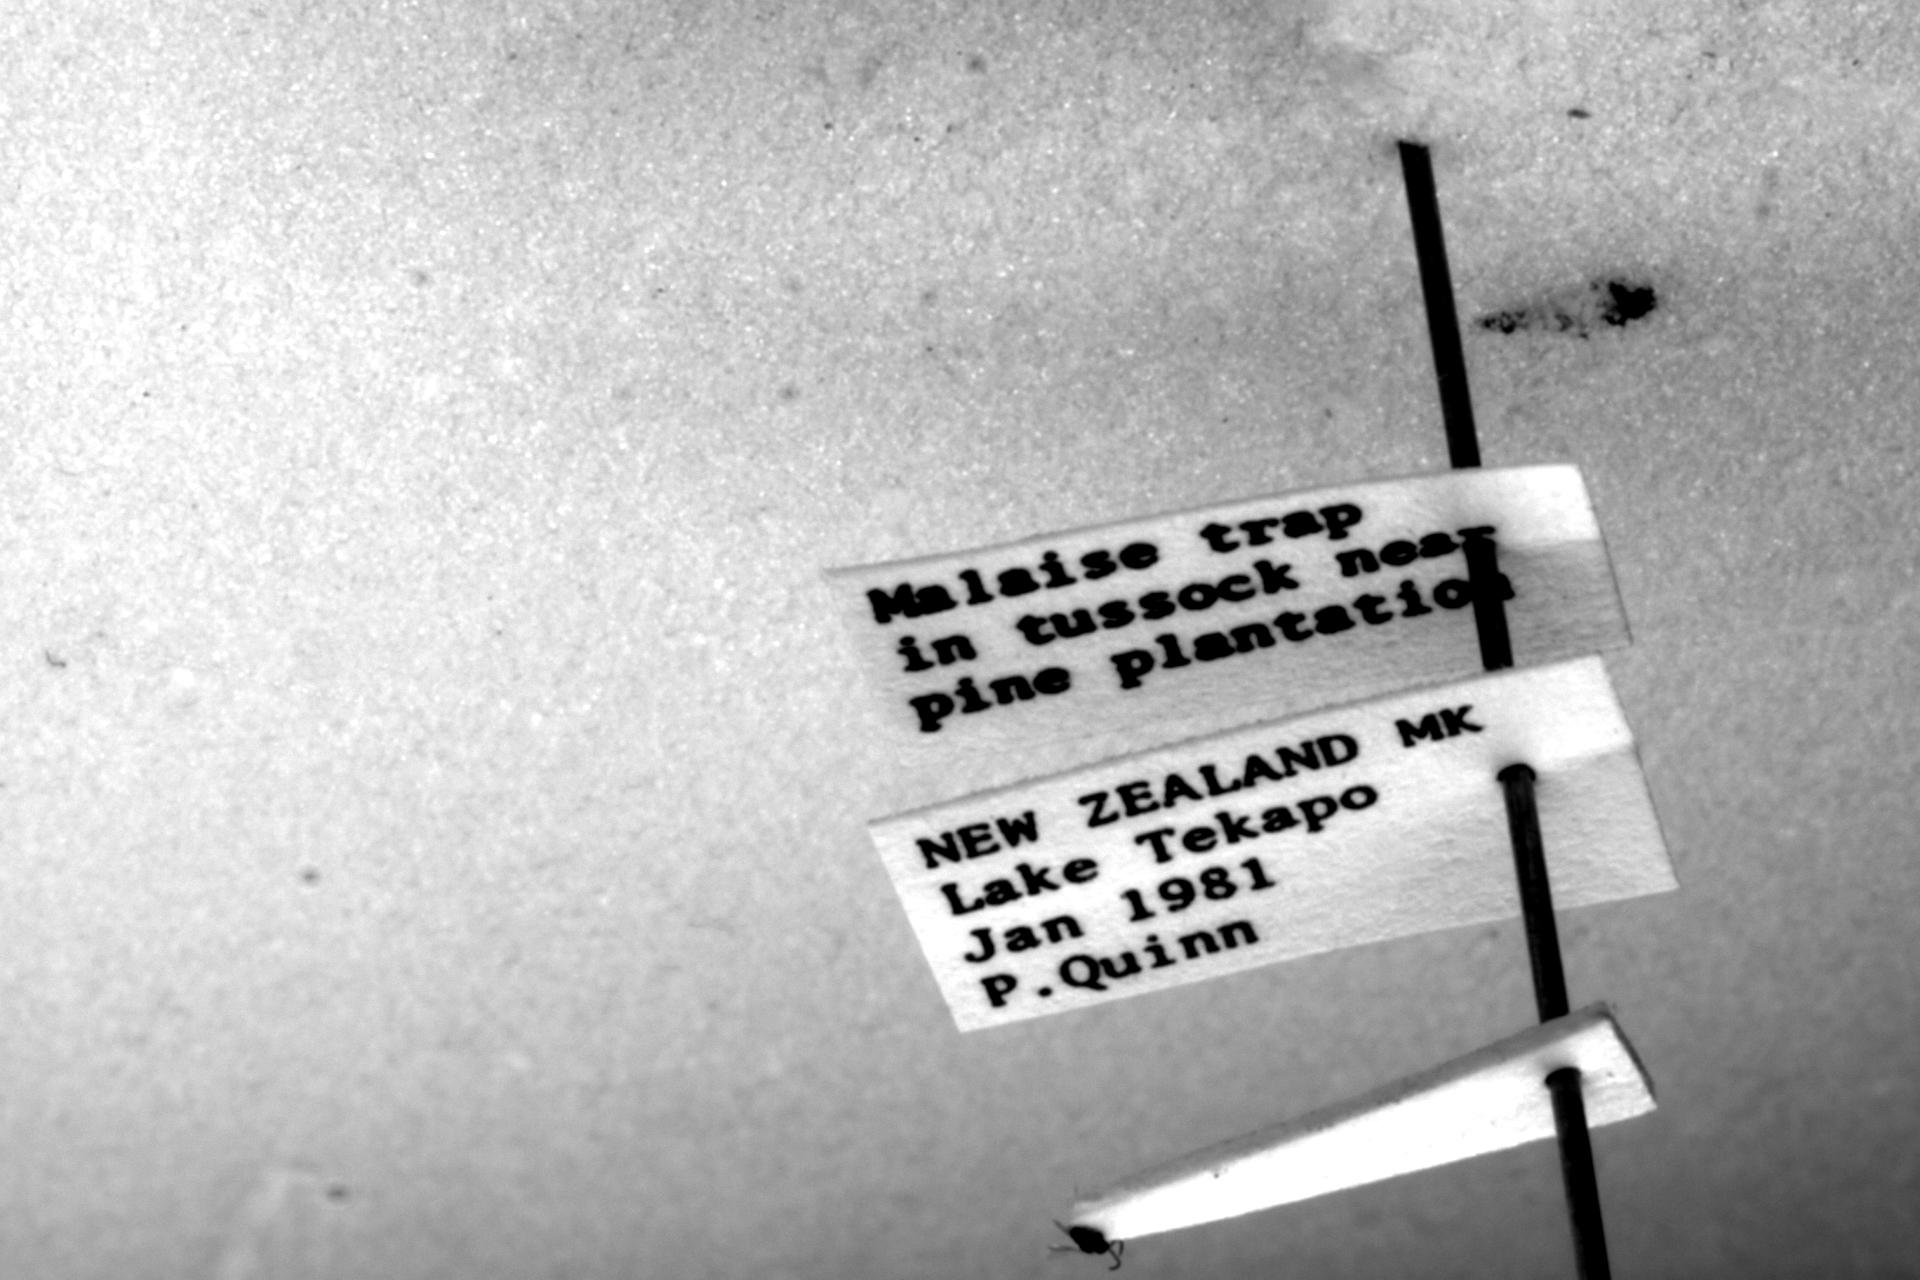typed_label: (870, 656, 1676, 1031), (829, 466, 1631, 766)
